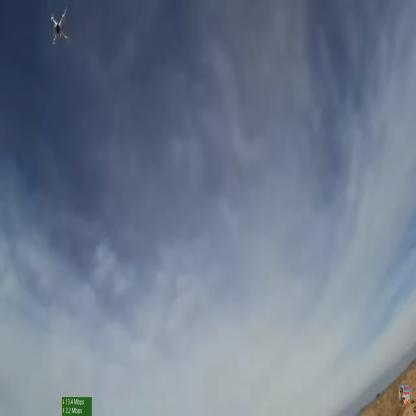drone: (45, 6, 74, 49)
